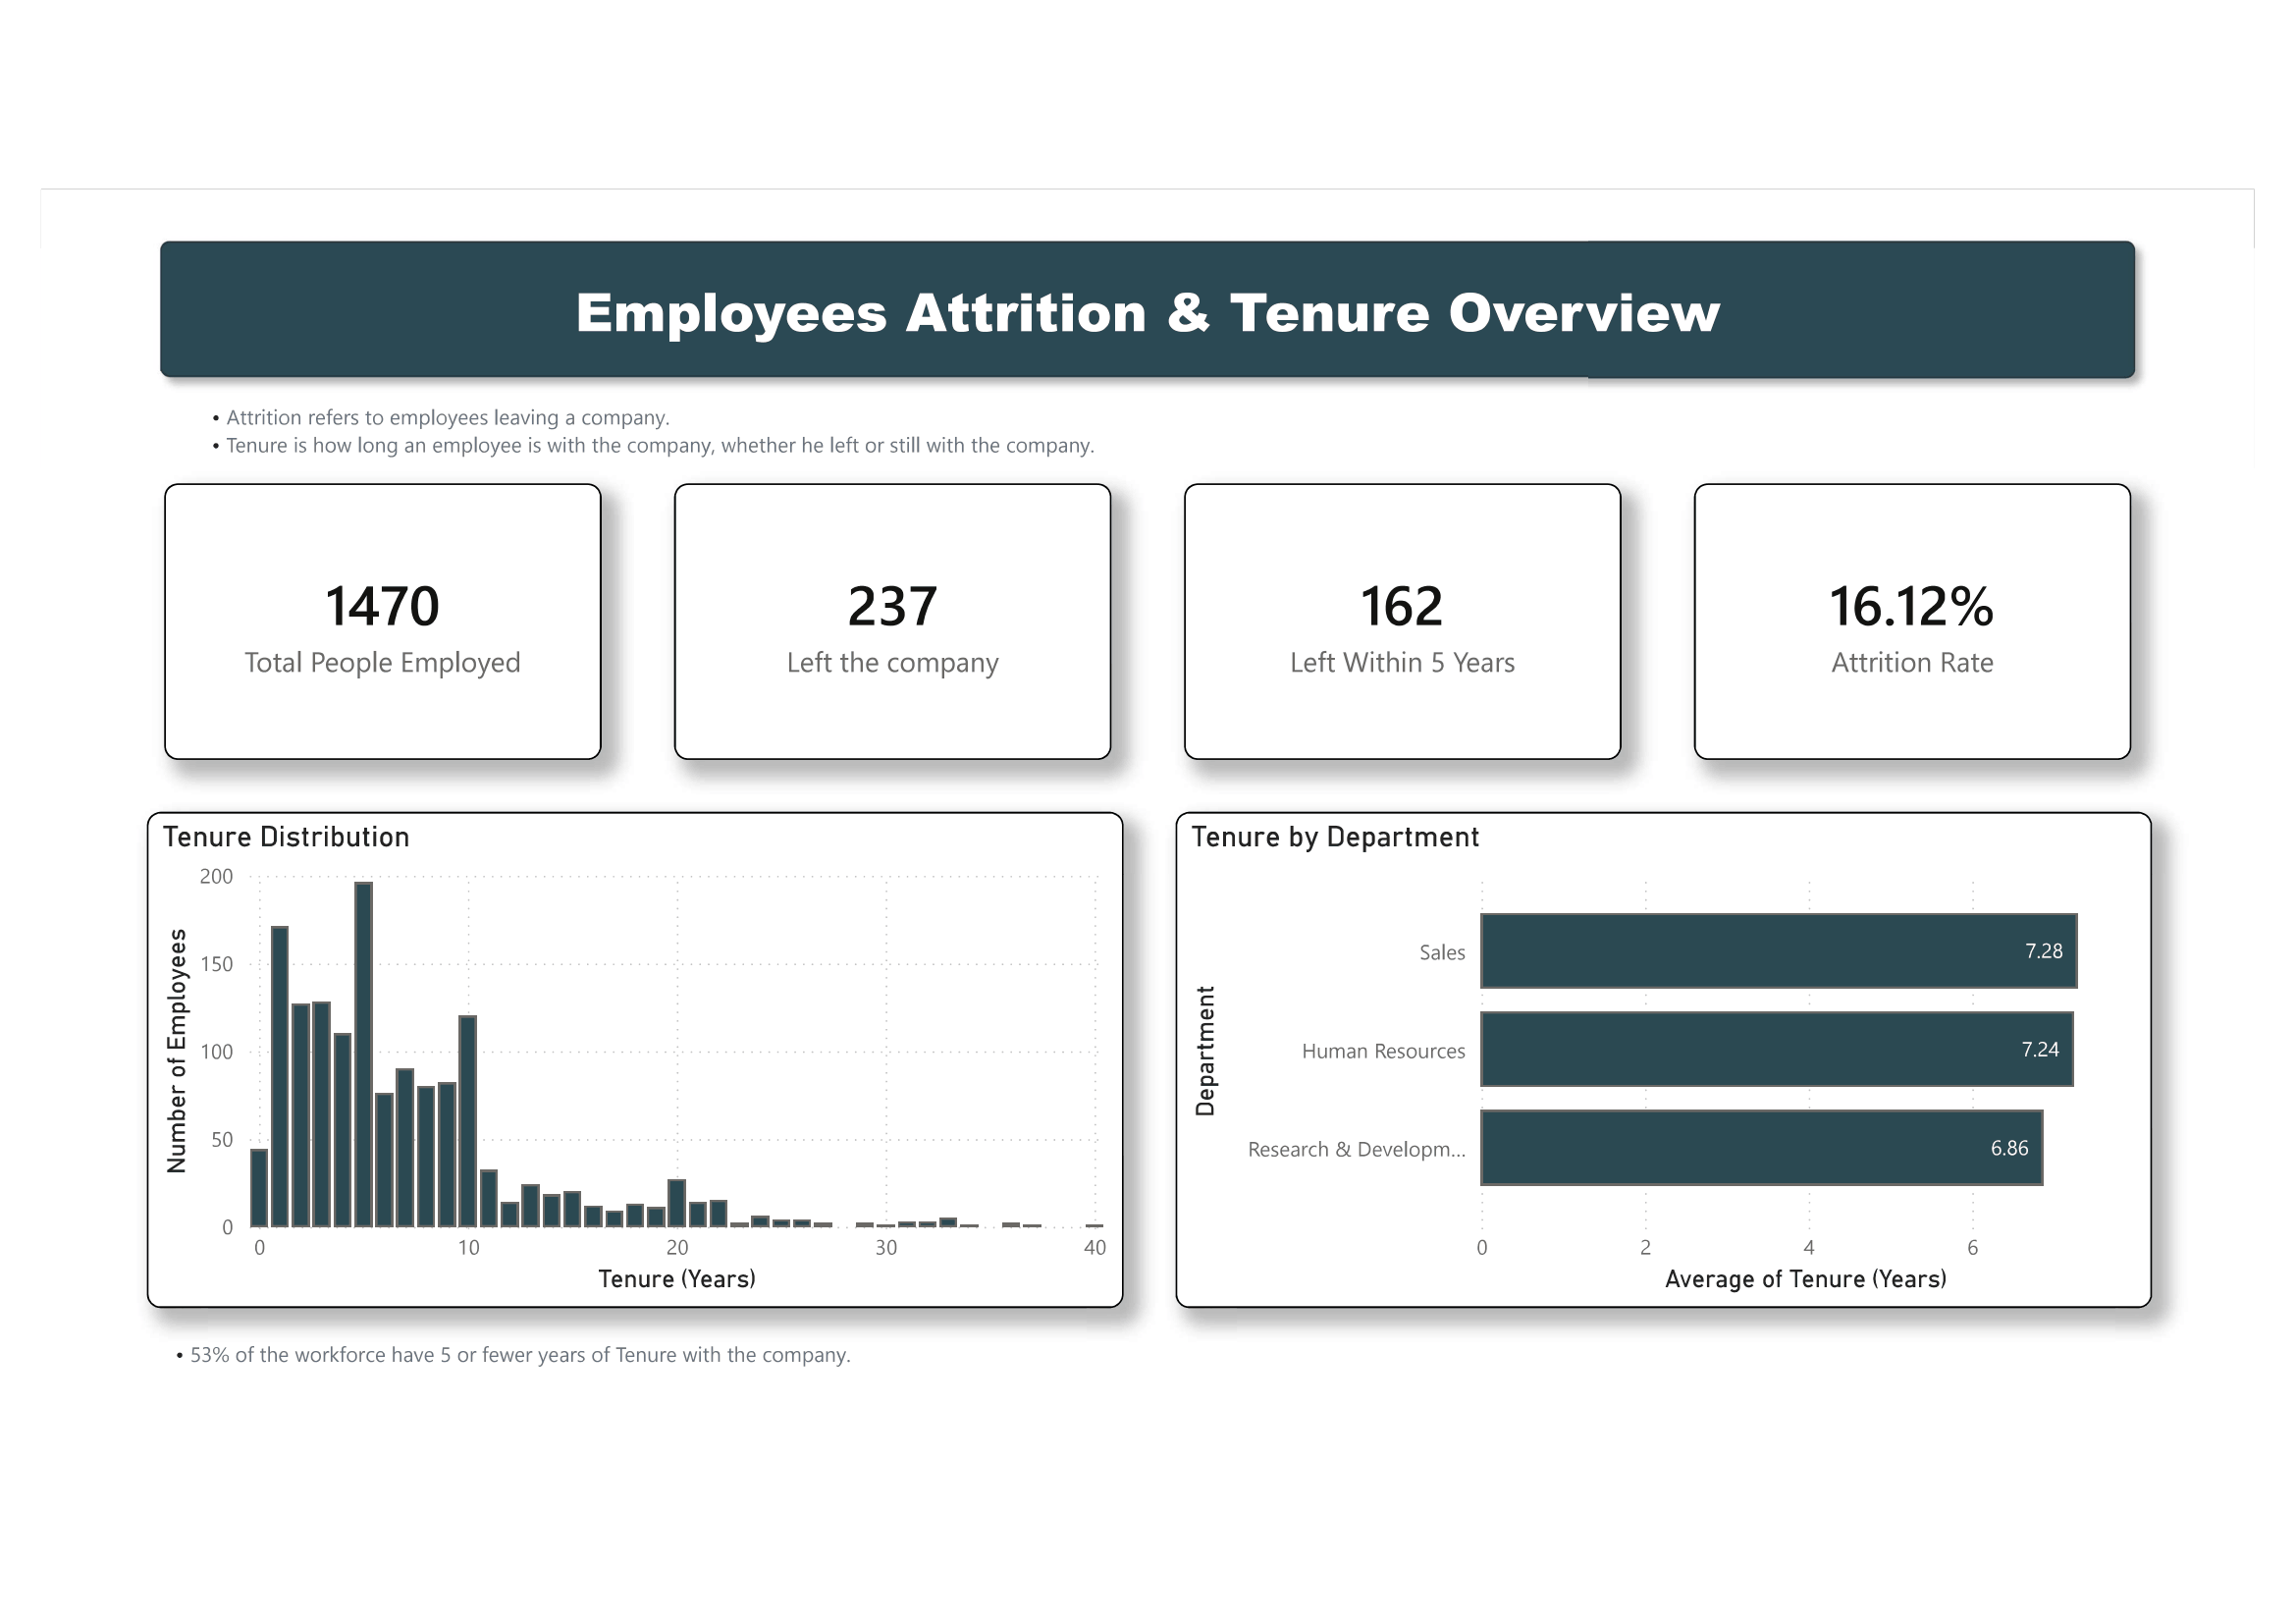

What the dashboard file says about the page in this screenshot:
{"tool":"powerbi","page":{"name":"Attrition Overview","canvas":[1280,720],"ordinal":0},"visuals":[{"type":"cardVisual","fields":{"Data":["Sum(dataset.EmployeeCount)"]},"box":[71,170,253,160],"z":0,"group":"g2"},{"type":"columnChart","title":"Tenure Distribution","fields":{"Y":["CountNonNull(dataset.EmployeeNumber)"],"Category":["dataset.YearsAtCompany"]},"box":[61.5,360,565.5,287.3],"z":0,"group":"g1"},{"type":"clusteredBarChart","title":"Tenure by Department","fields":{"Category":["dataset.Department"],"Y":["Avg(dataset.YearsAtCompany)"]},"box":[656,360,565.5,287.3],"z":0},{"type":"shape","box":[60,20.6,1160,97.3],"z":1000},{"type":"cardVisual","fields":{"Data":["_measures.Attrition Count"]},"box":[366,170,253,160],"z":1000,"group":"g2"},{"type":"cardVisual","fields":{"Data":["_measures.Early Attrition"]},"box":[661,170,253,160],"z":2000,"group":"g2"},{"type":"group","id":"g1","title":"Group 2","box":[61.5,360,565.5,334.2],"z":2000},{"type":"textbox","box":[84,118,565,46],"z":3000},{"type":"cardVisual","fields":{"Data":["_measures.Attrition Rate"]},"box":[956,170,253,160],"z":3000,"group":"g2"},{"type":"textbox","box":[63.8,660.3,560.3,33.9],"z":3000,"group":"g1"},{"type":"group","id":"g2","title":"Group 1","box":[71,170,1138,160],"z":4000}]}

Visuals, with their boxes on the page's 1280x720 design canvas (x1, y1, x2, y2). These are canvas units, not pixel positions in the 2296x1624 screenshot, which may show the page scaled, cropped or inside an application window:
cardVisual - Sum(dataset.EmployeeCount): detection(71, 170, 324, 330)
"Tenure Distribution" columnChart: detection(62, 360, 627, 647)
"Tenure by Department" clusteredBarChart: detection(656, 360, 1222, 647)
shape: detection(60, 21, 1220, 118)
cardVisual - _measures.Attrition Count: detection(366, 170, 619, 330)
cardVisual - _measures.Early Attrition: detection(661, 170, 914, 330)
"Group 2" group: detection(62, 360, 627, 694)
textbox: detection(84, 118, 649, 164)
cardVisual - _measures.Attrition Rate: detection(956, 170, 1209, 330)
textbox: detection(64, 660, 624, 694)
"Group 1" group: detection(71, 170, 1209, 330)
